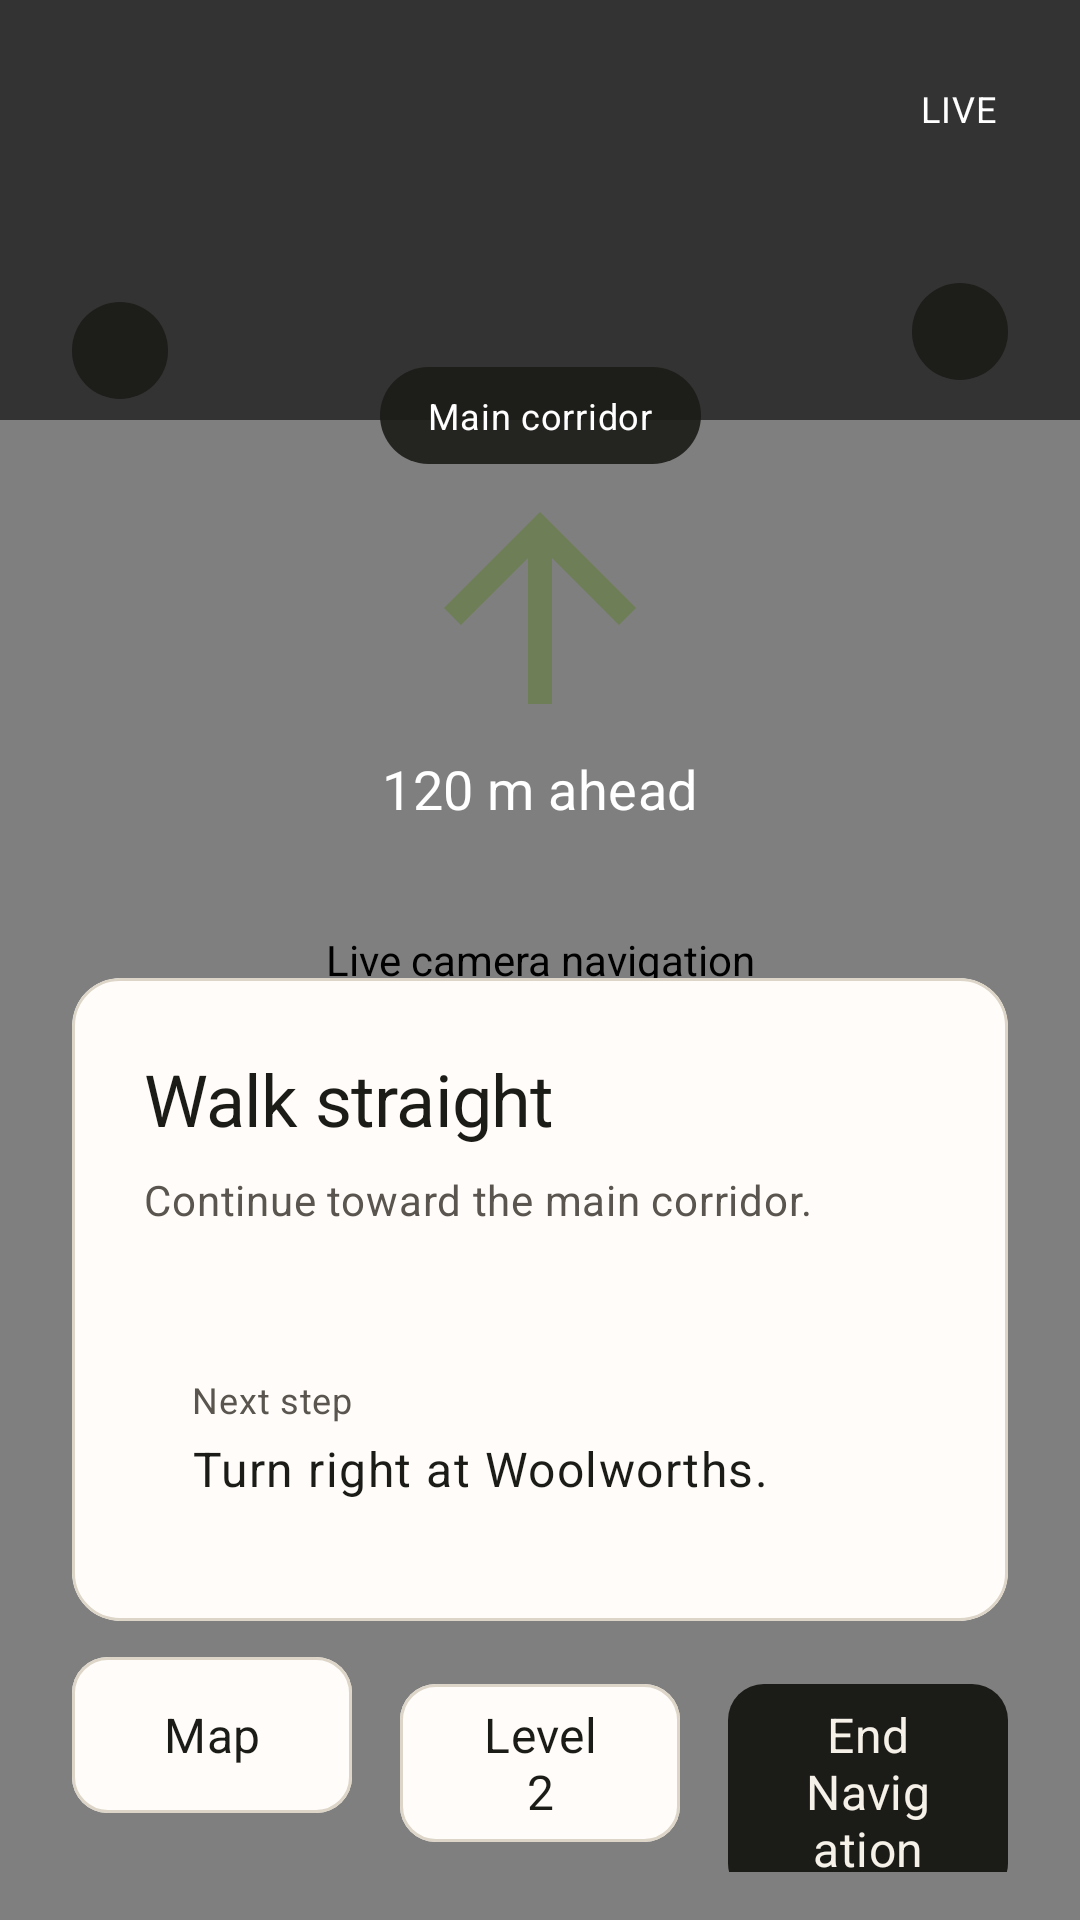

Icons on this 1080 x 1920 Android screen, each with its box as (x1, y1, x2, y2):
Walk this way: (445, 513, 635, 704)
